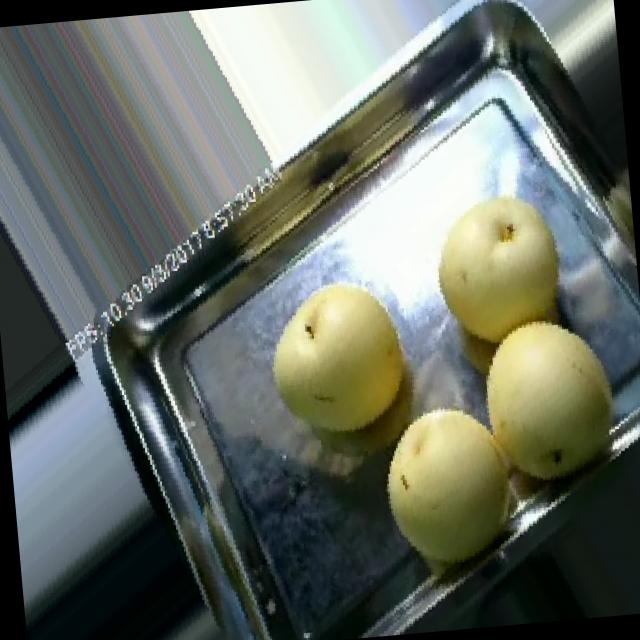Fruit: (240, 256, 440, 465), (465, 287, 640, 522), (350, 380, 514, 602), (411, 173, 590, 371)
